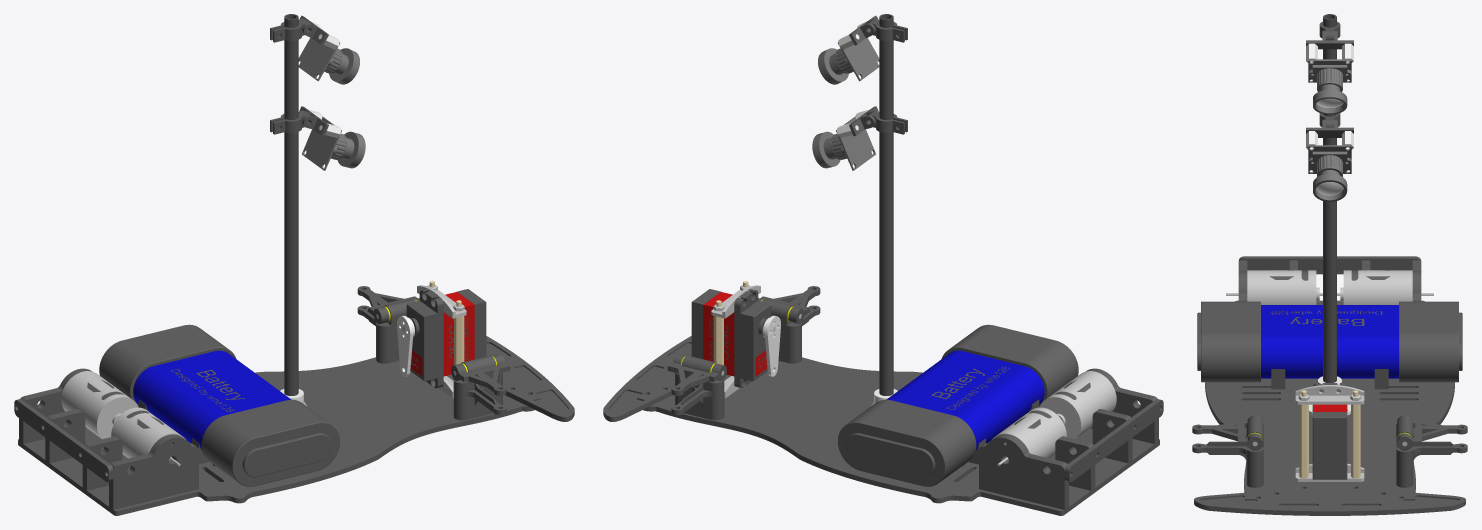
The model's file is assembly_base.dae.
3 renders of one model, left to right at view 1: azimuth 30°, elevation 25°; view 2: azimuth 150°, elevation 25°; view 3: azimuth 270°, elevation 25°, orthographic. The views are drawn at different scales.
Visible parts, largest first — view 1: assembly_base; view 2: assembly_base; view 3: assembly_base.
Boxes of the visible parts, bbox=[...] form: assembly_base: bbox=[14, 14, 574, 515]; assembly_base: bbox=[603, 14, 1163, 515]; assembly_base: bbox=[1192, 14, 1467, 515].
Size of the model in its own units: 0.2989 by 0.16 by 0.253.
